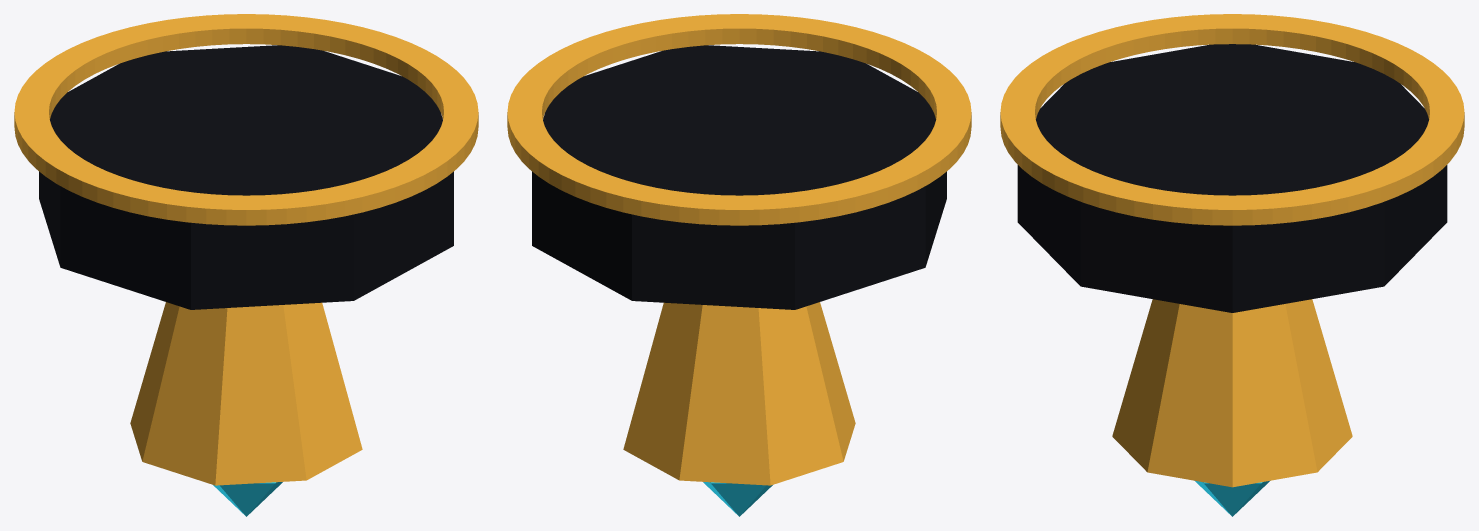
File: vmt_phase_a_roof_anchor_active.obj
The picture shows the model from 3 angles, left to right: view 1: azimuth 30°, elevation 25°; view 2: azimuth 150°, elevation 25°; view 3: azimuth 270°, elevation 25°; orthographic projection.
Parts seen in each view (by area): view 1: VMT_PhaseA_RoofAnchor_Active; view 2: VMT_PhaseA_RoofAnchor_Active; view 3: VMT_PhaseA_RoofAnchor_Active.
Boxes of the visible parts, x1,y1,x2,y2 form: VMT_PhaseA_RoofAnchor_Active: (14, 14, 478, 516); VMT_PhaseA_RoofAnchor_Active: (507, 14, 971, 516); VMT_PhaseA_RoofAnchor_Active: (1000, 14, 1464, 516).
Bounding box in the file's own units: 1.62 × 1.56 × 1.62.
